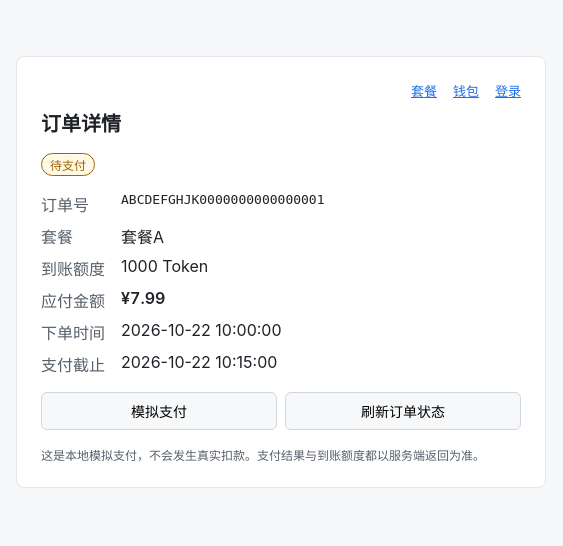
it: 订单详情页 › 支付成功后以服务端响应刷新为已支付并展示支付时间
Click the button "模拟支付".
click(159, 411)  # box [41,392,277,430]
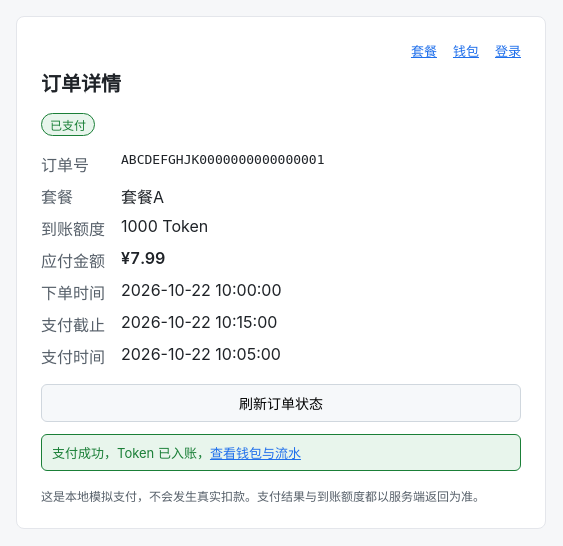
Now the text "已支付" is shown, box [41,112,95,136]
Now the text "2026-10-22 10:05:00" is shown, box [121,344,281,364]
Now the text "支付成功，Token 已入账， 查看钱包与流水" is shown, box [41,434,521,470]
